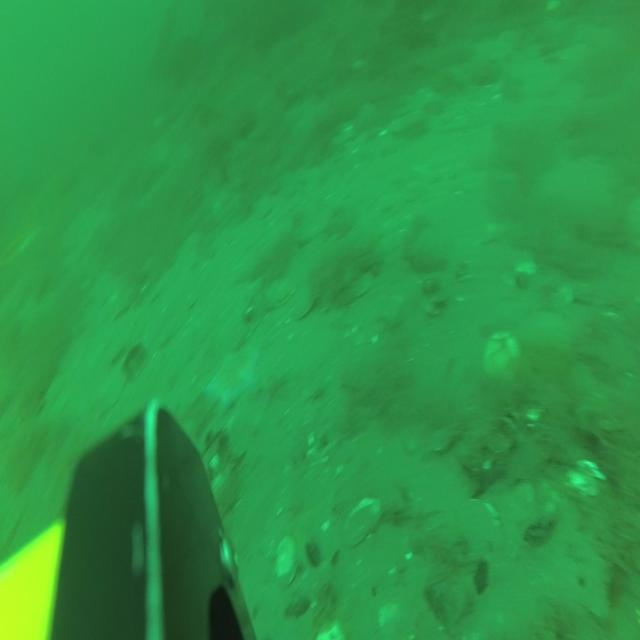scallop: (480, 327, 519, 384), (343, 498, 383, 548), (275, 534, 300, 588), (290, 284, 314, 321), (266, 276, 293, 308)
starfish: (206, 351, 256, 411)
